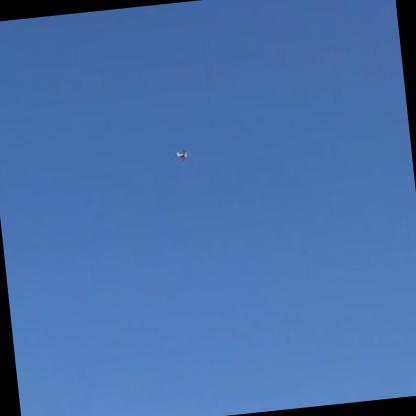plane: (176, 148, 191, 161)
